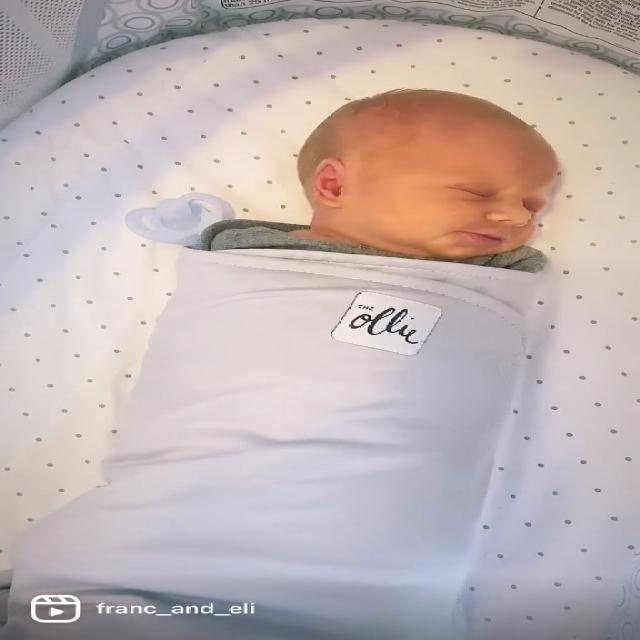baby: (0, 81, 559, 640)
